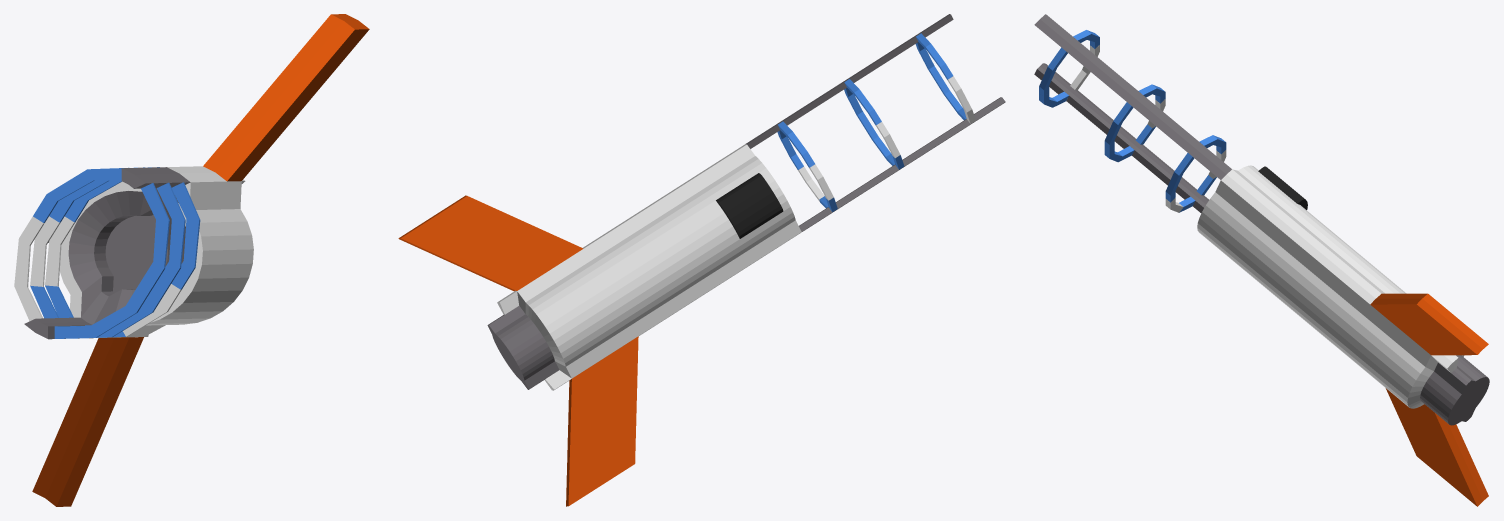
File: tractorbeammat.fbx
3 views of the same model, side by side, from view 1: azimuth 30°, elevation 25°; view 2: azimuth 150°, elevation 25°; view 3: azimuth 270°, elevation 25° (orthographic). The views are drawn at different scales.
Parts seen in each view (by area): view 1: Ship; view 2: Ship; view 3: Ship.
Boxes of the visible parts, x1=… form: Ship: x1=14, y1=14, x2=369, y2=506; Ship: x1=398, y1=14, x2=1005, y2=506; Ship: x1=1034, y1=14, x2=1489, y2=506.
Size of the model in its own units: 1124 by 1031 by 1058.
